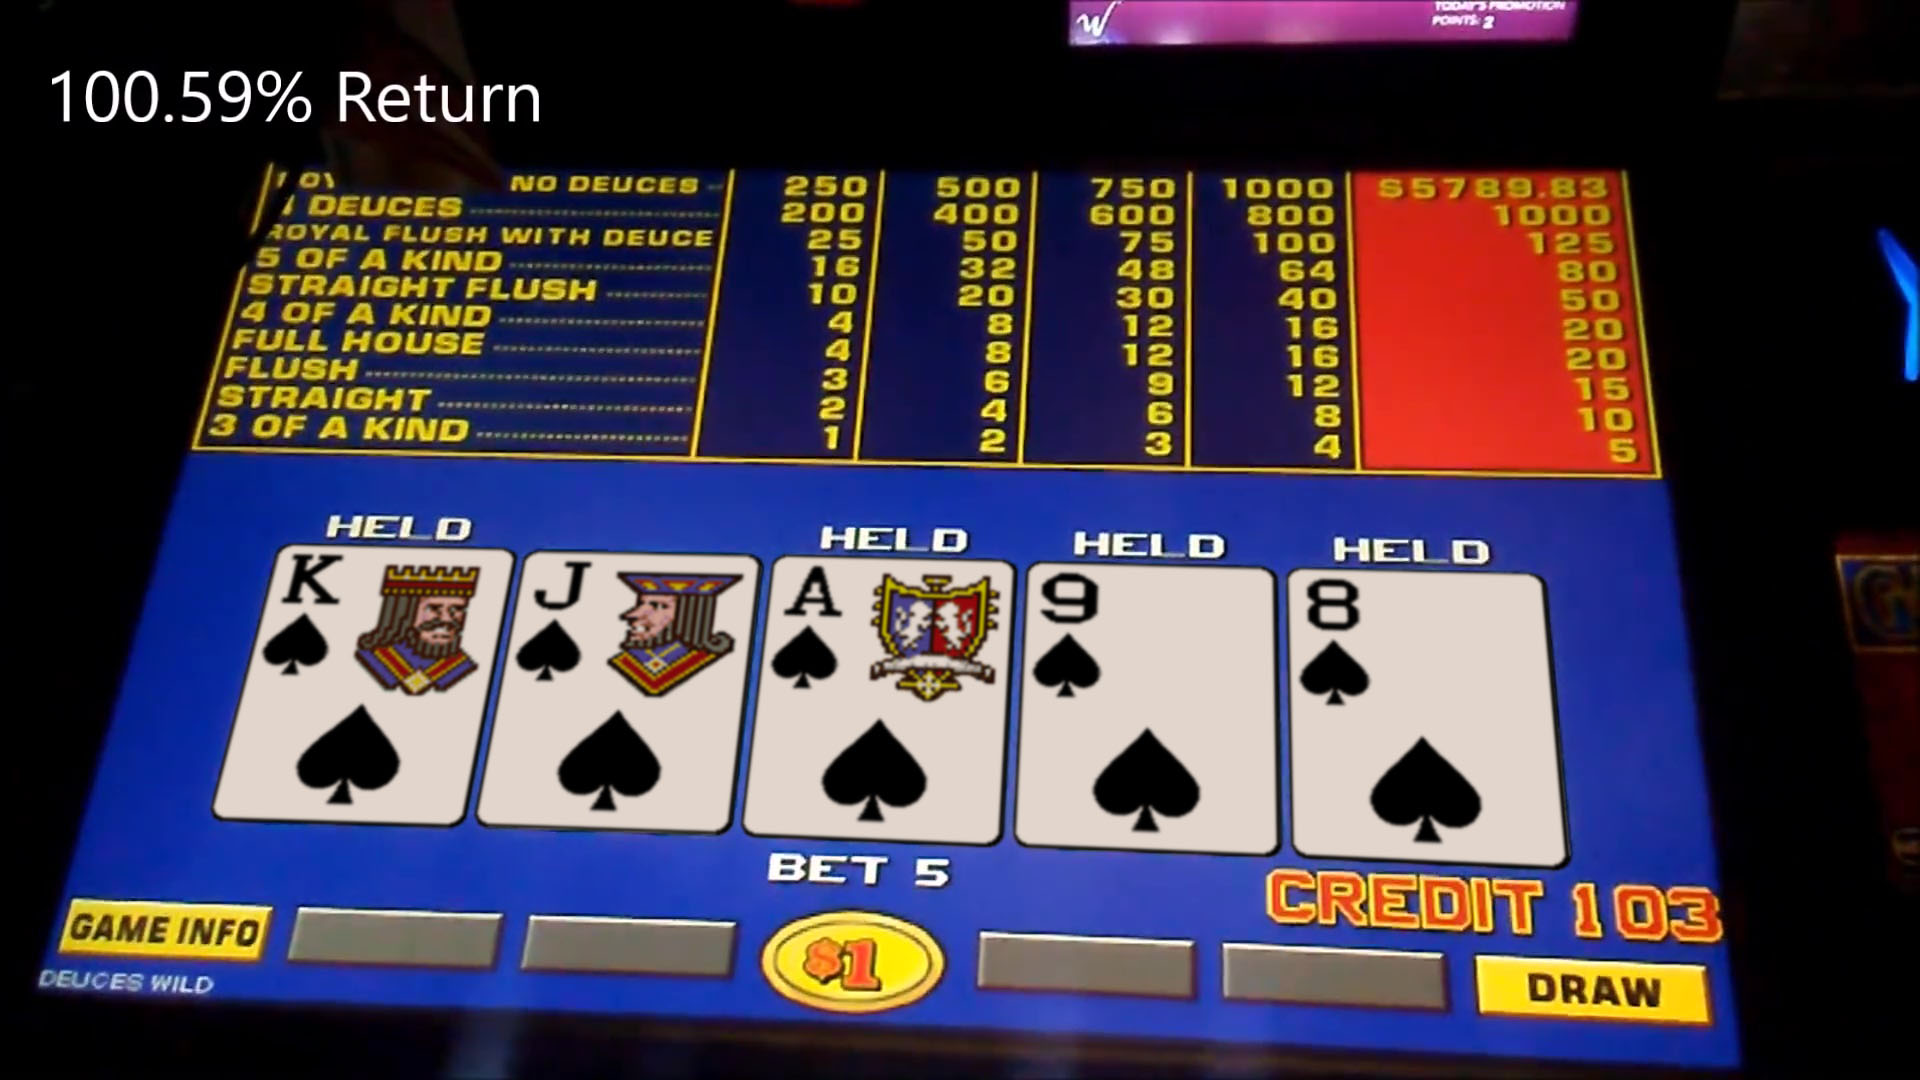S8: (1294, 575, 1553, 855)
S9: (1029, 564, 1270, 853)
SA: (771, 558, 997, 843)
SJ: (522, 553, 735, 828)
SK: (265, 549, 472, 819)
